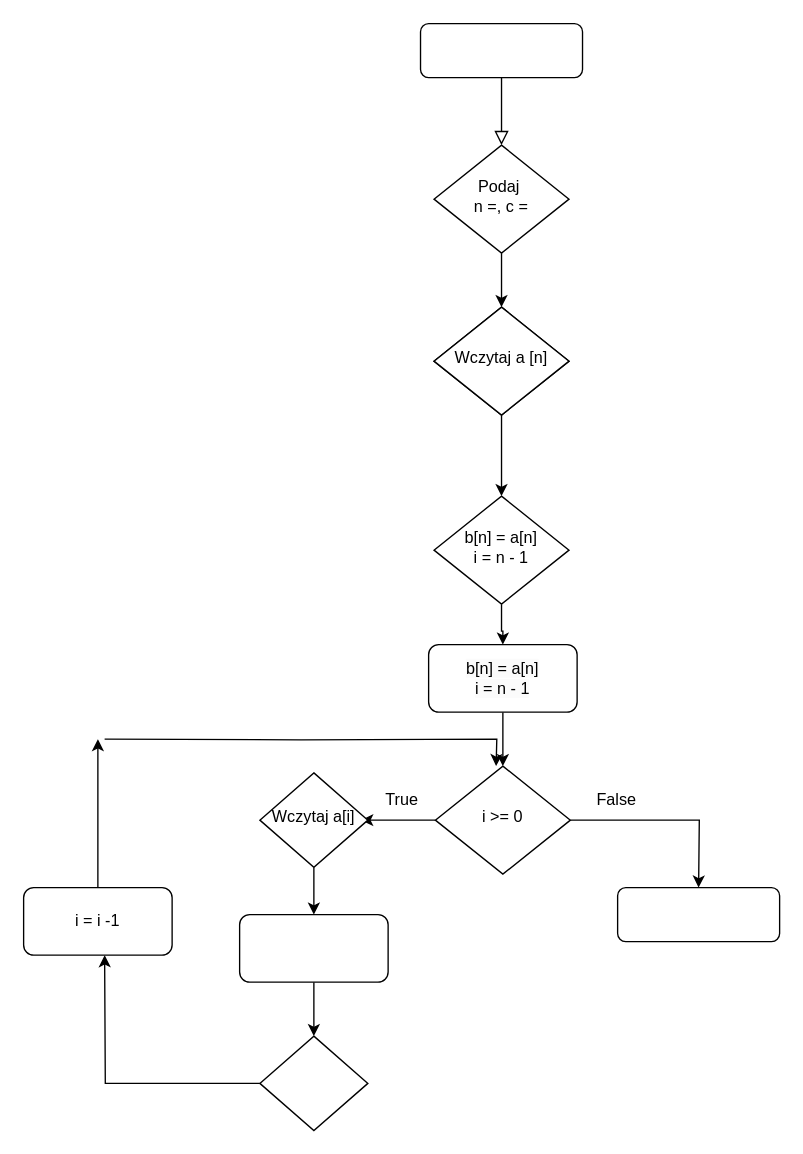
Some shapes in this 803 by 1154 pixel diagram are drawn without their labels. The shapes that lost their labels are listed below. From the top down, each one's centre as x and y in pixels, then its label:
[501,50]: Start
[698,914]: End
[313,947]: b[i] = b[i+1] *c + a[i]
[313,1083]: Wypisz b[i]
